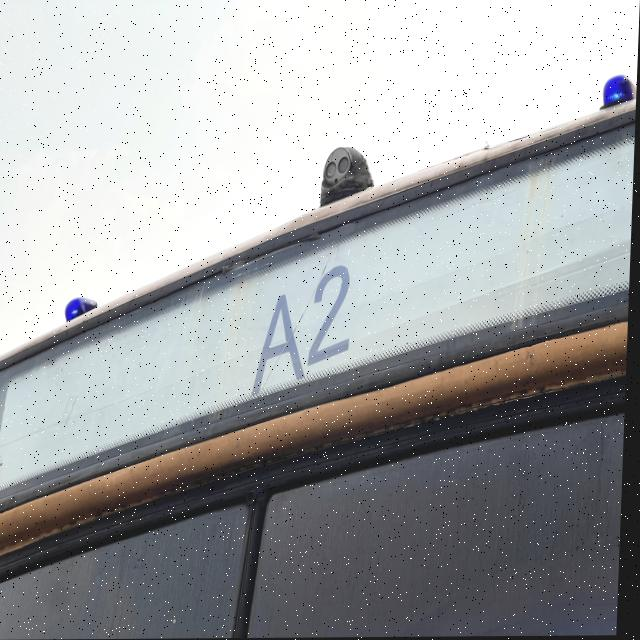BMTA-bus: (0, 67, 638, 640)
Bus Line Number: (239, 248, 373, 398)
